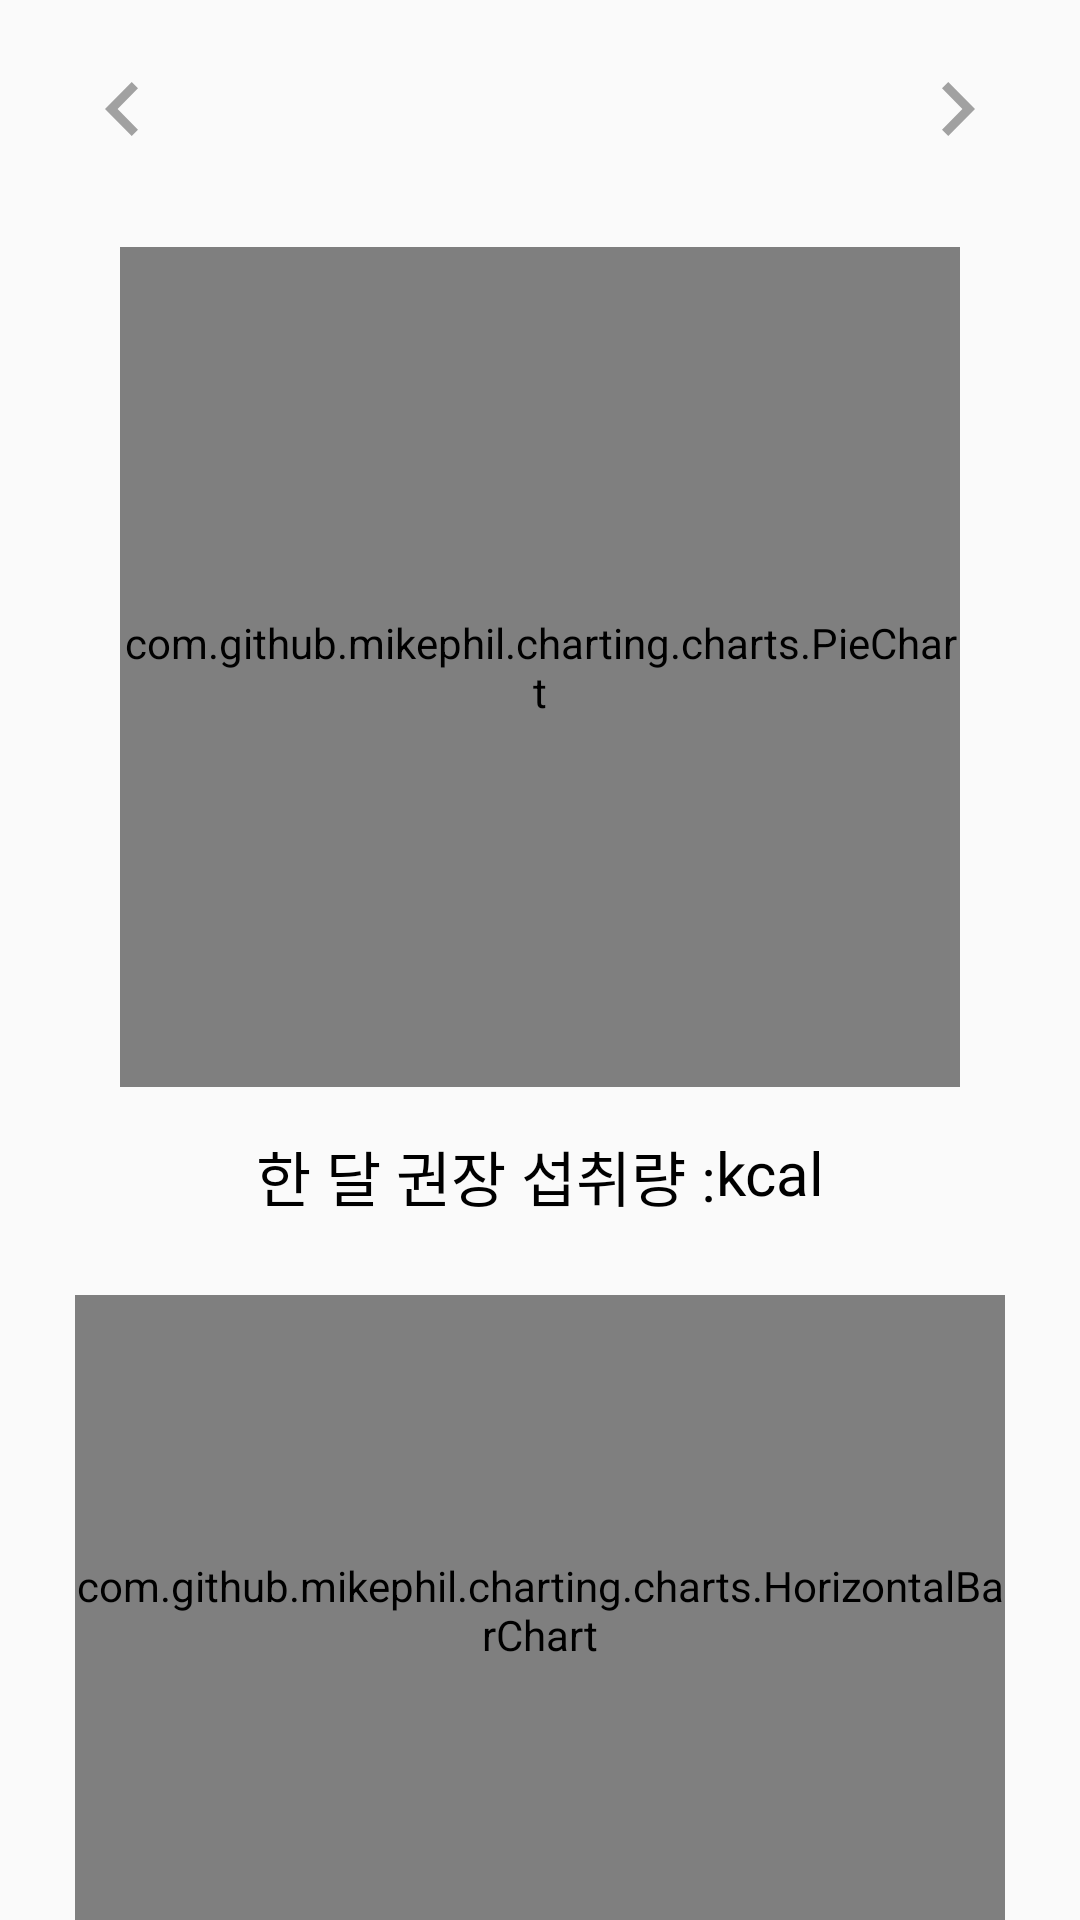

Icon click points for this 1080*1920 phone screenshot, format [x,y]:
arrow left: [121,109]
arrow right: [958,109]
